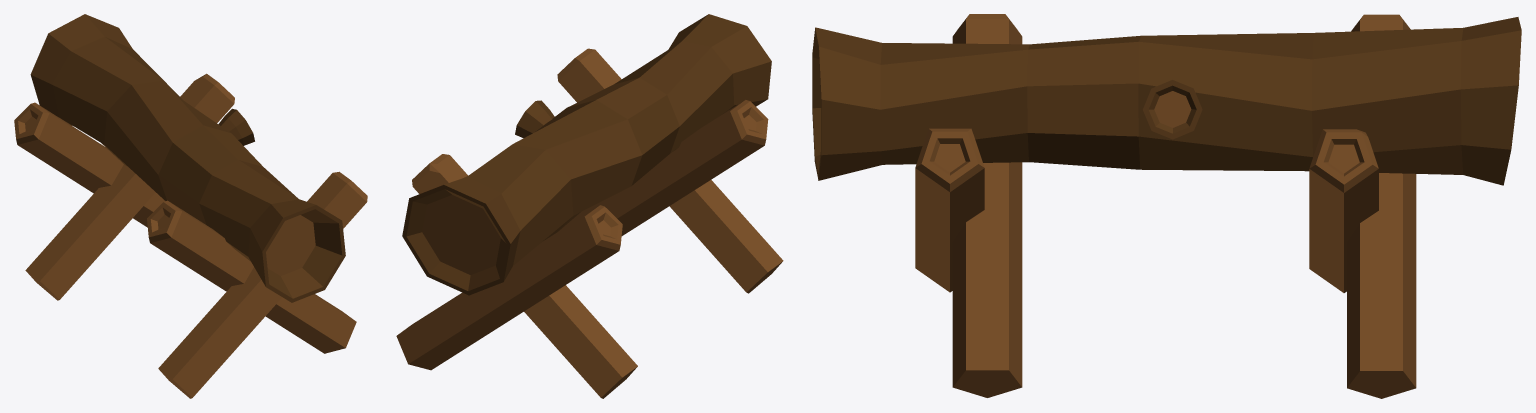
The model's file is G_WoodStand.fbx.
3 renders of one model, left to right at view 1: azimuth 30°, elevation 25°; view 2: azimuth 150°, elevation 25°; view 3: azimuth 270°, elevation 25°, orthographic. The views are drawn at different scales.
Visible parts, largest first — view 1: G_Wood, G_WoodStand; view 2: G_Wood, G_WoodStand; view 3: G_Wood, G_WoodStand.
Part boxes in pixels (x1,y1,x2,y2): G_Wood: [30, 14, 345, 302]; G_WoodStand: [14, 73, 367, 398]; G_Wood: [402, 14, 771, 295]; G_WoodStand: [396, 48, 783, 398]; G_Wood: [812, 17, 1521, 185]; G_WoodStand: [915, 14, 1416, 398].
Size of the model in its own units: 166 by 171 by 337.
